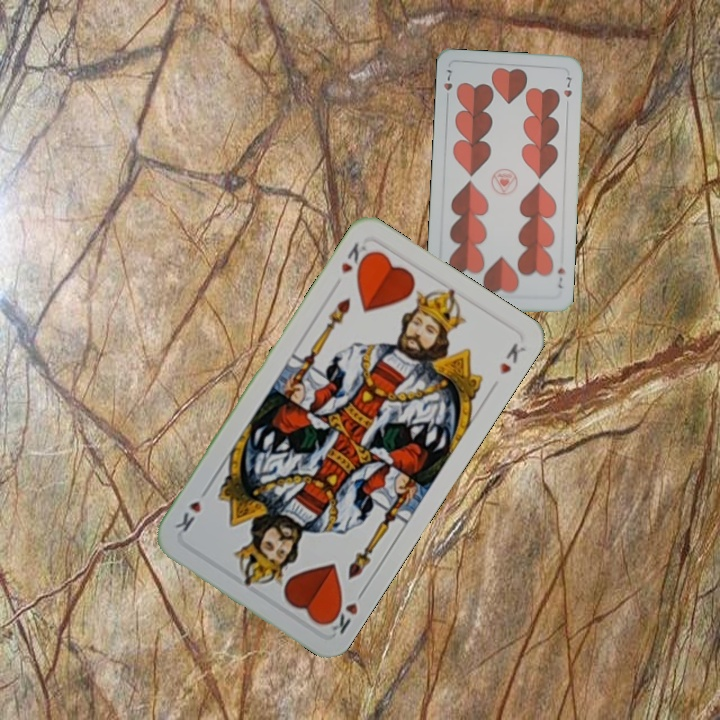H7: (440, 65, 455, 104), (553, 264, 567, 291)
HK: (322, 584, 368, 637), (337, 238, 374, 278)
